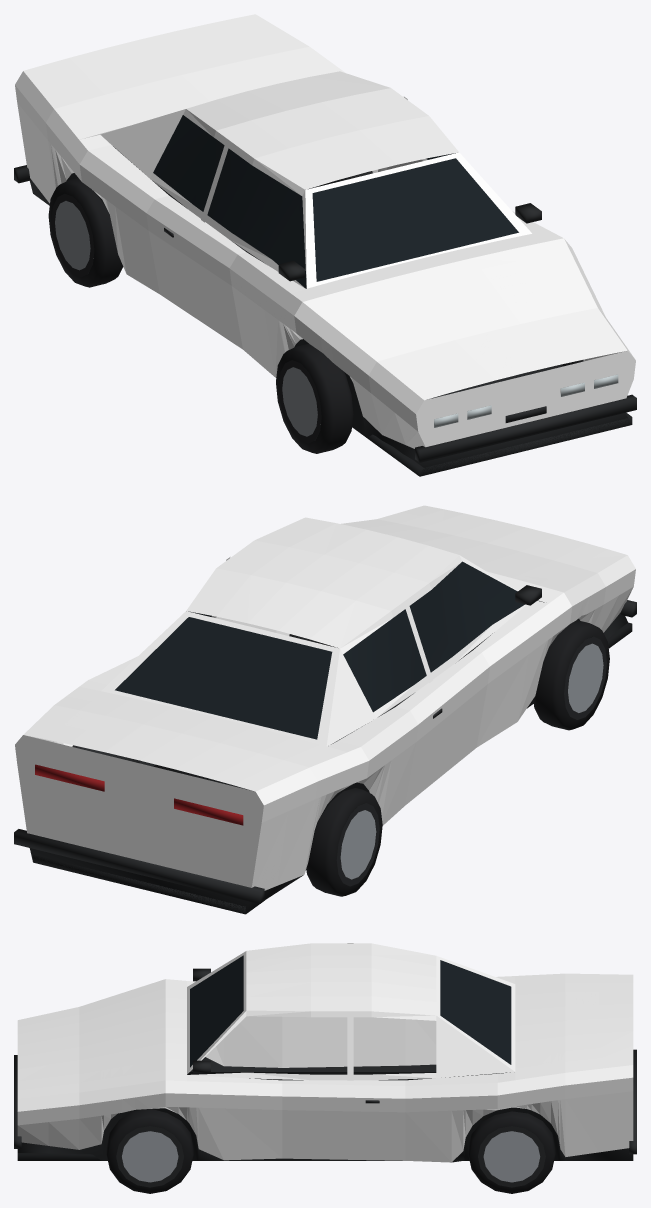
Rendered from mizuchi_brasa.glb.
3 views of the same model, one above another, from view 1: azimuth 30°, elevation 25°; view 2: azimuth 150°, elevation 25°; view 3: azimuth 270°, elevation 25° (orthographic). The views are drawn at different scales.
Visible parts, largest first — view 1: Body_Paint, Body_Details, Mount_FrontLeft_Wheel_Details, Mount_RearLeft_Wheel_Details; view 2: Body_Paint, Body_Details, Mount_FrontLeft_Wheel_Details, Mount_RearLeft_Wheel_Details; view 3: Body_Paint, Body_Details, Mount_FrontRight_Wheel_Details, Mount_RearRight_Wheel_Details.
Part boxes in pixels (<box>): Body_Paint: <box>15,14,635,448</box>; Body_Details: <box>14,115,636,476</box>; Mount_FrontLeft_Wheel_Details: <box>276,343,353,453</box>; Mount_RearLeft_Wheel_Details: <box>48,178,123,287</box>; Body_Paint: <box>15,505,635,890</box>; Body_Details: <box>14,561,636,914</box>; Mount_FrontLeft_Wheel_Details: <box>533,620,609,730</box>; Mount_RearLeft_Wheel_Details: <box>306,788,382,896</box>; Body_Paint: <box>17,943,633,1162</box>; Body_Details: <box>14,955,636,1162</box>; Mount_FrontRight_Wheel_Details: <box>106,1109,193,1193</box>; Mount_RearRight_Wheel_Details: <box>468,1111,555,1193</box>.
Bounding box in the file's own units: 1.92 × 1.32 × 4.49.
Materials: 2 (1 with a texture image).
